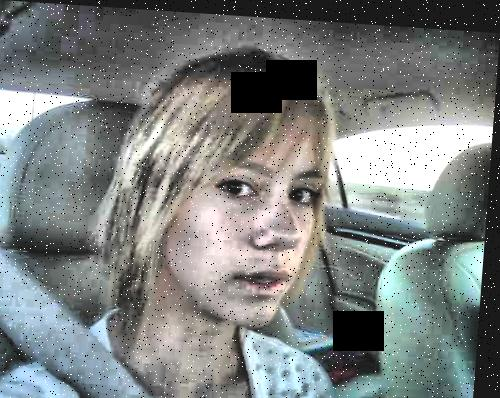seatbelt: (0, 228, 140, 393)
